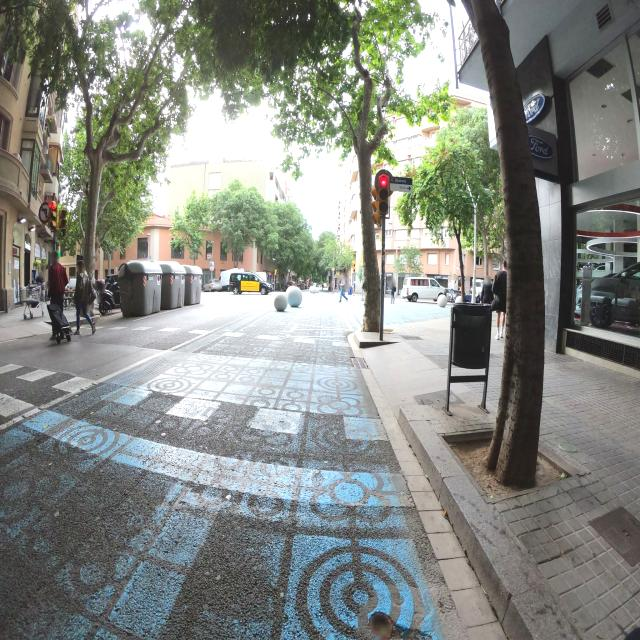car: (402, 276, 449, 305), (227, 271, 272, 295), (203, 278, 223, 292)
